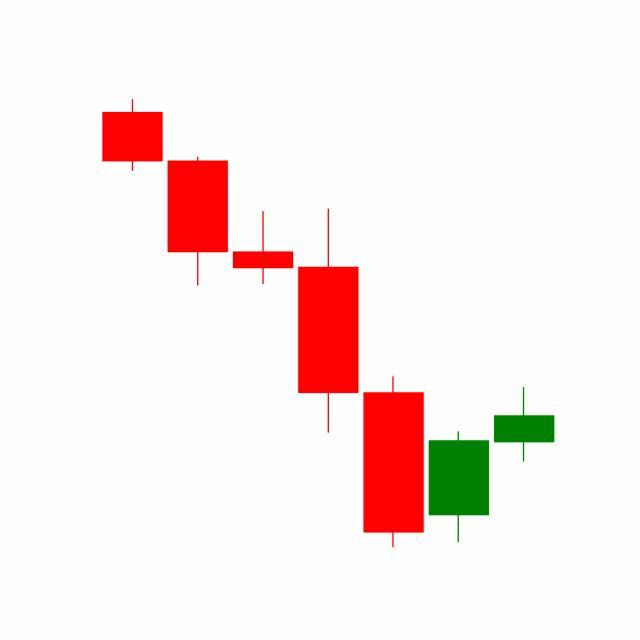Hikkake Pattern: (229, 205, 555, 548)
